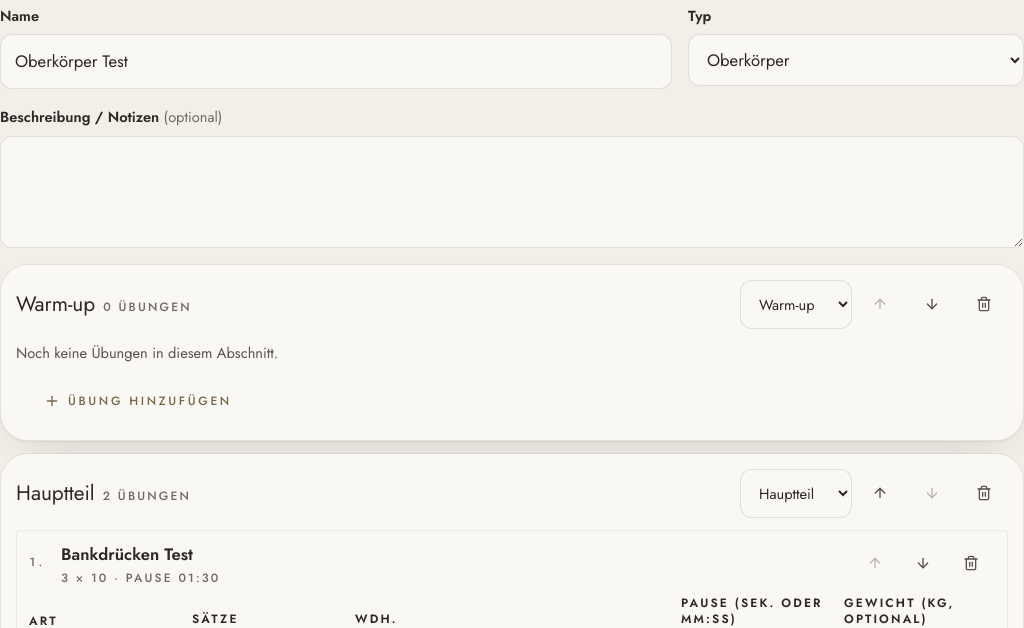
it: WorkoutEditor — fields per execution type › Sprint 7.5 regression: an existing TEMPLATE saves through updateTemplateAction with its version
Replace the text in the field labelled "Name" with "Oberkörper Test v2" at (336,62), box [0,34,672,90]
(page scrolled)
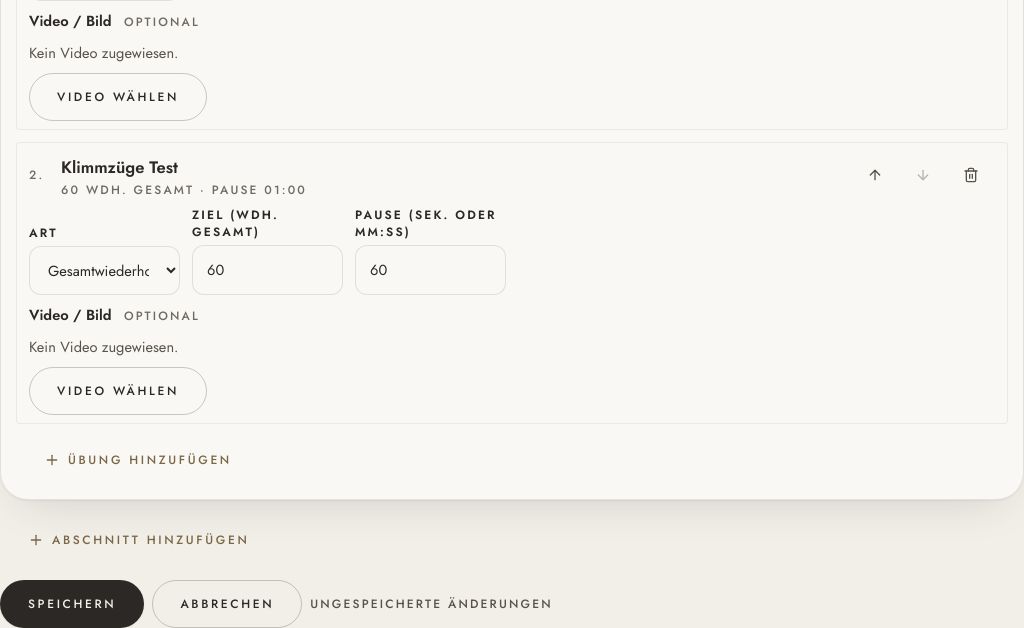
Click the button "Speichern" at (72,604), box [0,580,144,627]
(page scrolled)
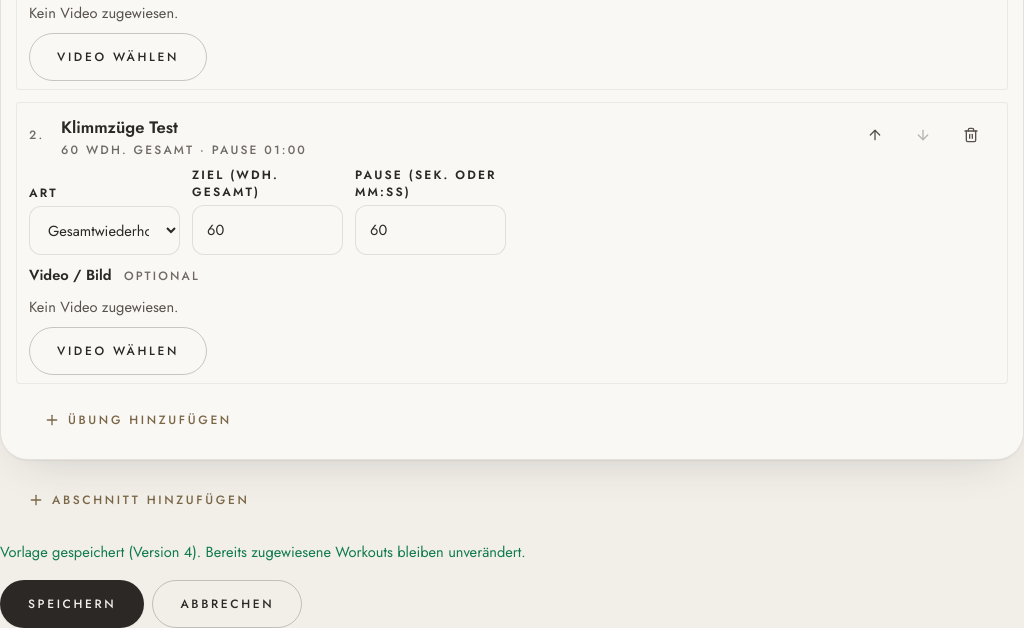
Expected: the text "Vorlage gespeichert (Version 4)" is shown, [0,541,526,562]
